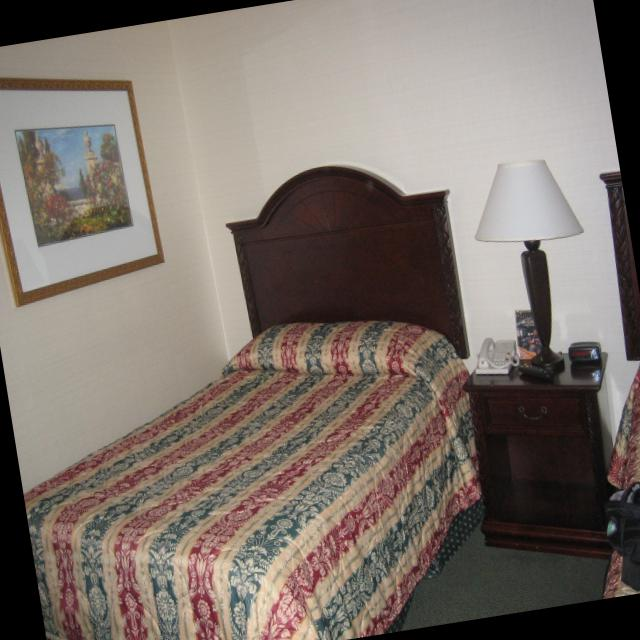alarm: (568, 342, 601, 362)
bed -occluded-: (25, 325, 484, 640)
painting crop: (0, 79, 164, 307)
telephone booth: (476, 337, 517, 375)
